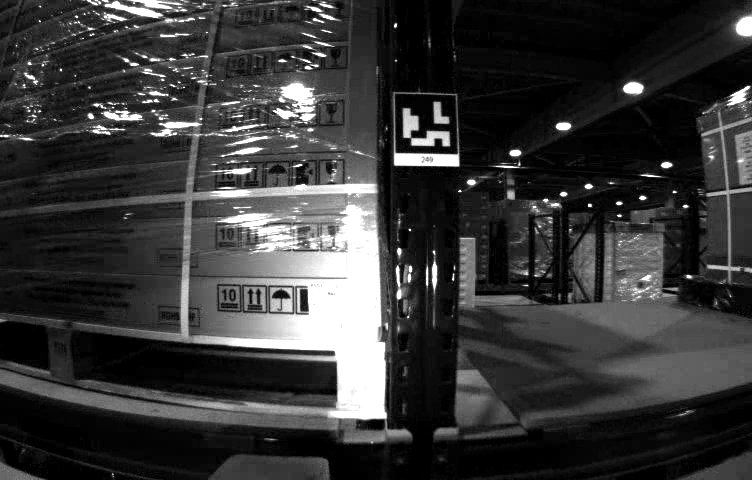True Barcode: (309, 281, 363, 334)
